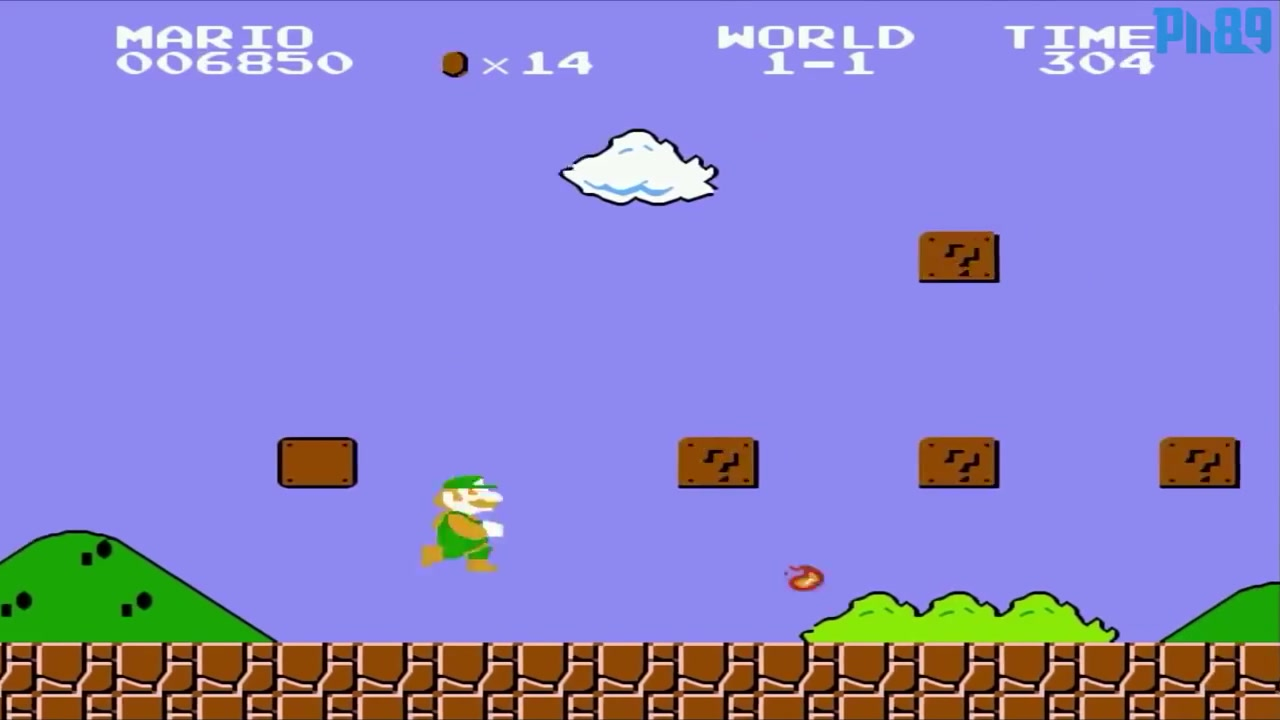mario: (413, 466, 515, 575)
